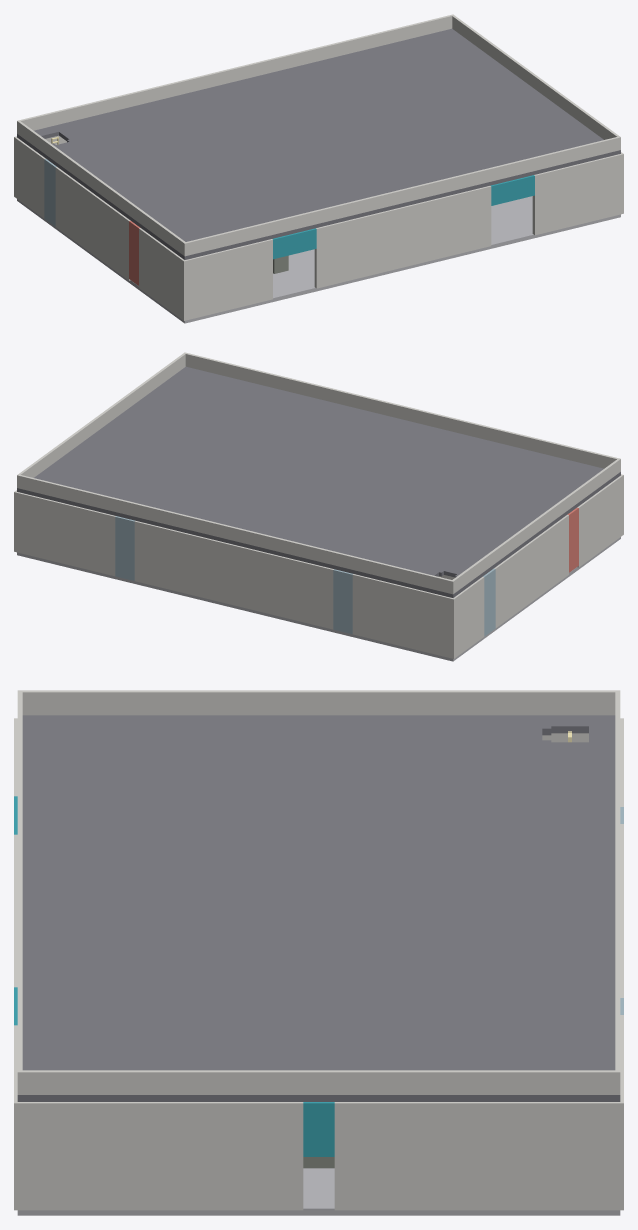
Rendered from warehouse_a01.glb.
The picture shows the model from 3 angles, top to bottom: view 1: azimuth 30°, elevation 25°; view 2: azimuth 150°, elevation 25°; view 3: azimuth 270°, elevation 25°; orthographic projection. The views are drawn at different scales.
Visible parts, largest first — view 1: slab_1_t1_2, slab_1_t1_3, slab_1_t2_3, slab_1_t2_5, slab_1_t3_5, slab_1_t1_5, slab_1_t1_6, slab_1_t2_2, slab_1_t2_6, slab_1_t3_1, slab_1_t3_4, slab_1_t3_6 (+83 smaller); view 2: slab_1_t1_5, slab_1_t2_3, slab_1_t2_5, slab_1_t3_2, slab_1_t3_3, slab_1_t1_1, slab_1_t1_4, slab_1_t1_6, slab_1_t2_2, slab_1_t2_6, slab_1_t3_5, slab_1_t3_6 (+82 smaller); view 3: slab_1_t2_5, slab_1_t2_2, slab_1_t2_6, slab_1_t1_2, slab_1_t1_5, slab_1_t1_6, slab_1_t3_2, slab_1_t3_5, slab_1_t3_6, slab_1_t2_1, slab_1_t2_3, slab_1_t2_4 (+58 smaller).
Boxes of the visible parts, x1,y1,x2,y2 form: slab_1_t1_2: [227, 167, 314, 204]; slab_1_t1_3: [281, 154, 368, 191]; slab_1_t2_3: [248, 129, 335, 167]; slab_1_t2_5: [357, 103, 444, 140]; slab_1_t3_5: [323, 78, 410, 115]; slab_1_t1_5: [390, 127, 477, 164]; slab_1_t1_6: [445, 114, 532, 151]; slab_1_t2_2: [193, 143, 280, 180]; slab_1_t2_6: [411, 89, 498, 127]; slab_1_t3_1: [105, 131, 192, 169]; slab_1_t3_4: [269, 91, 356, 129]; slab_1_t3_6: [378, 65, 465, 102]; slab_1_t1_5: [227, 416, 314, 453]; slab_1_t2_3: [302, 467, 389, 505]; slab_1_t2_5: [193, 441, 280, 478]; slab_1_t3_2: [323, 505, 410, 542]; slab_1_t3_3: [269, 492, 356, 529]; slab_1_t1_1: [445, 469, 532, 507]; slab_1_t1_4: [281, 429, 368, 467]; slab_1_t1_6: [172, 403, 259, 440]; slab_1_t2_2: [357, 481, 444, 518]; slab_1_t2_6: [139, 427, 226, 465]; slab_1_t3_5: [160, 465, 247, 502]; slab_1_t3_6: [105, 452, 192, 489]; slab_1_t2_5: [258, 951, 379, 999]; slab_1_t2_2: [258, 808, 379, 856]; slab_1_t2_6: [258, 999, 379, 1047]; slab_1_t1_2: [138, 808, 258, 856]; slab_1_t1_5: [138, 951, 258, 999]; slab_1_t1_6: [138, 999, 258, 1047]; slab_1_t3_2: [379, 808, 499, 856]; slab_1_t3_5: [379, 951, 499, 999]; slab_1_t3_6: [379, 999, 499, 1047]; slab_1_t2_1: [258, 761, 379, 808]; slab_1_t2_3: [258, 856, 379, 903]; slab_1_t2_4: [258, 904, 379, 951].
Size of what is drawn, in the model's own units: 36.3 by 6.3 by 24.3.
